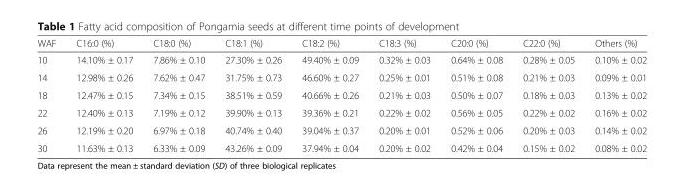table: (36, 37, 646, 153)
table column: (65, 37, 142, 153), (214, 37, 291, 153), (291, 37, 368, 153), (142, 37, 214, 153), (368, 37, 440, 153), (440, 37, 512, 153), (512, 37, 584, 153), (584, 37, 646, 153), (36, 37, 65, 153)
table column header: (36, 37, 646, 51)
table row: (36, 85, 646, 103), (36, 103, 646, 121), (36, 121, 646, 139), (36, 51, 646, 68), (36, 68, 646, 85), (36, 37, 646, 51), (36, 139, 646, 153)
